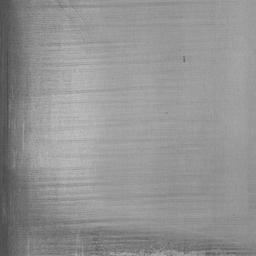Waist folding: (0, 85, 256, 256), (0, 0, 236, 73)
